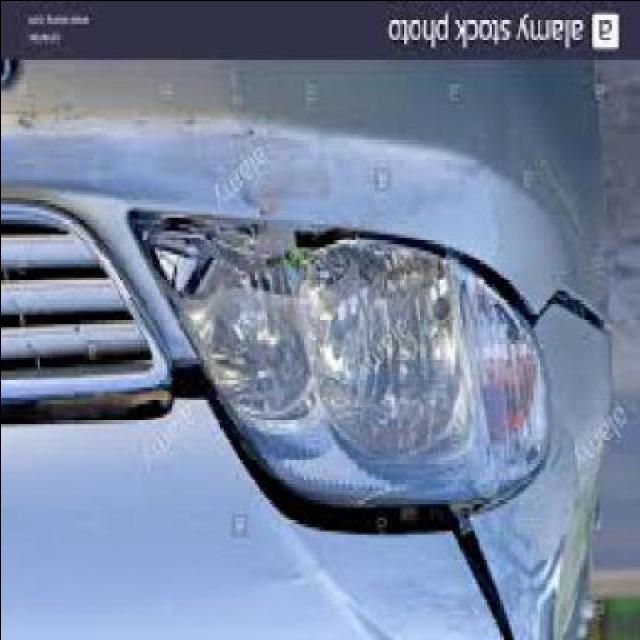Headlight-Damage: (124, 196, 581, 540)
